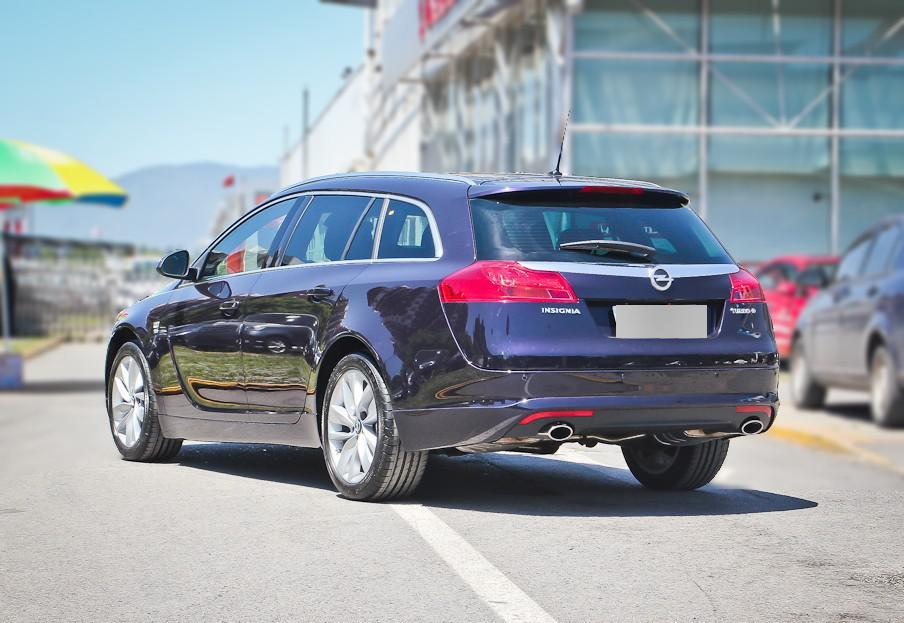Wagon: (104, 172, 782, 502)
